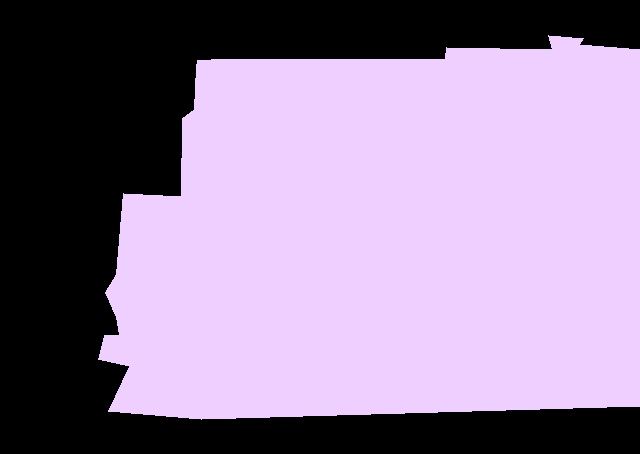Train: (98, 35, 640, 419)
